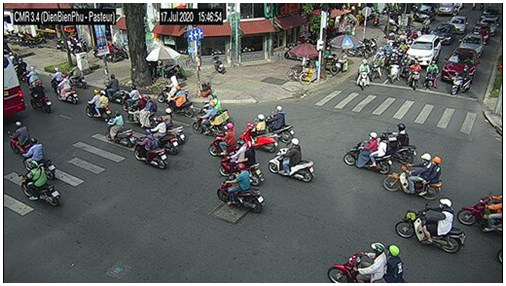xe_hoi: (441, 48, 479, 84), (407, 34, 442, 65), (459, 31, 484, 57), (435, 23, 456, 44), (473, 23, 490, 42), (450, 14, 467, 32)
xe_may: (395, 198, 465, 254), (327, 242, 406, 283), (384, 152, 443, 200), (218, 163, 265, 212), (268, 138, 314, 184), (343, 132, 392, 175), (220, 140, 264, 186), (20, 159, 60, 207), (457, 194, 502, 231), (239, 114, 278, 153), (22, 138, 57, 180), (135, 129, 166, 170), (386, 124, 416, 163), (106, 110, 136, 148), (267, 105, 295, 143), (193, 101, 222, 137), (152, 118, 179, 155), (210, 122, 239, 155), (9, 121, 35, 155), (166, 86, 194, 117), (29, 80, 53, 113), (86, 89, 110, 119), (158, 75, 182, 105), (164, 110, 185, 144), (450, 64, 471, 98), (56, 74, 79, 104), (106, 75, 125, 104), (424, 58, 439, 90), (69, 63, 86, 89), (388, 52, 401, 83), (370, 52, 382, 83), (357, 58, 369, 88), (409, 59, 420, 90), (203, 92, 221, 108), (50, 67, 63, 89), (26, 65, 39, 82)
